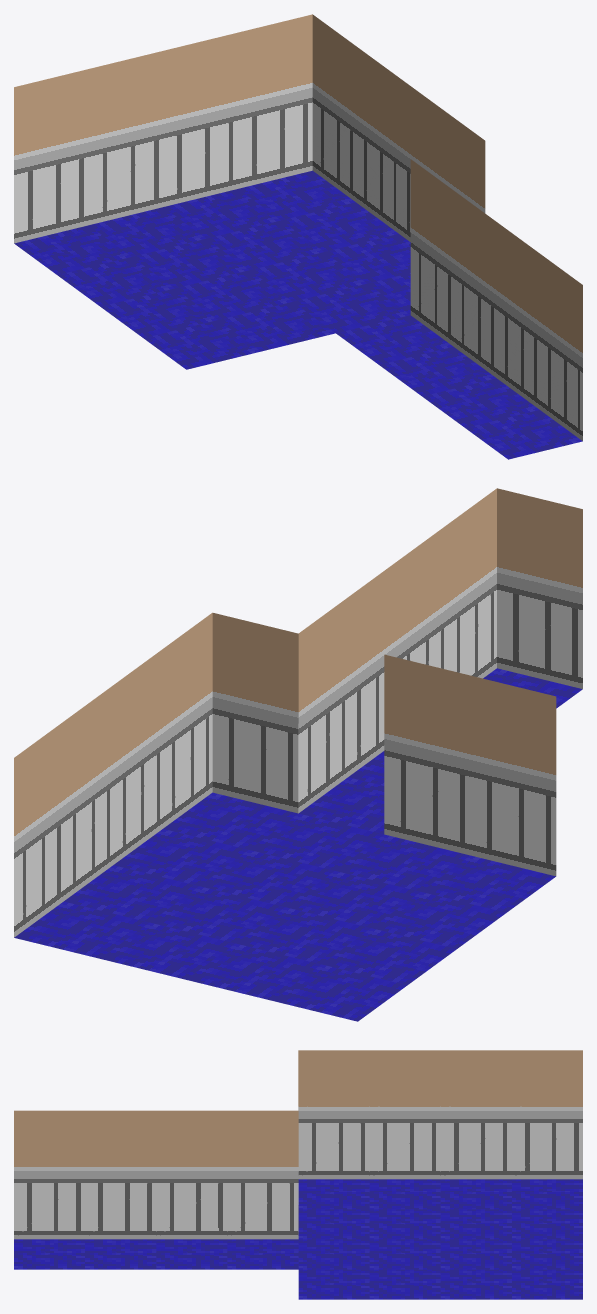
Rendered from Level01.gltf.
The picture shows the model from 3 angles, top to bottom: view 1: azimuth 30°, elevation 25°; view 2: azimuth 150°, elevation 25°; view 3: azimuth 270°, elevation 25°; orthographic projection. The views are drawn at different scales.
Visible parts, largest first — view 1: default; view 2: default; view 3: default.
Boxes of the visible parts, left/top/right/bottom form: default: left=14, top=14, right=582, bottom=459; default: left=14, top=488, right=582, bottom=1021; default: left=14, top=1050, right=582, bottom=1299.
Size of the model in its own units: 4 by 2 by 8.
Materials: 3 (3 with a texture image).
